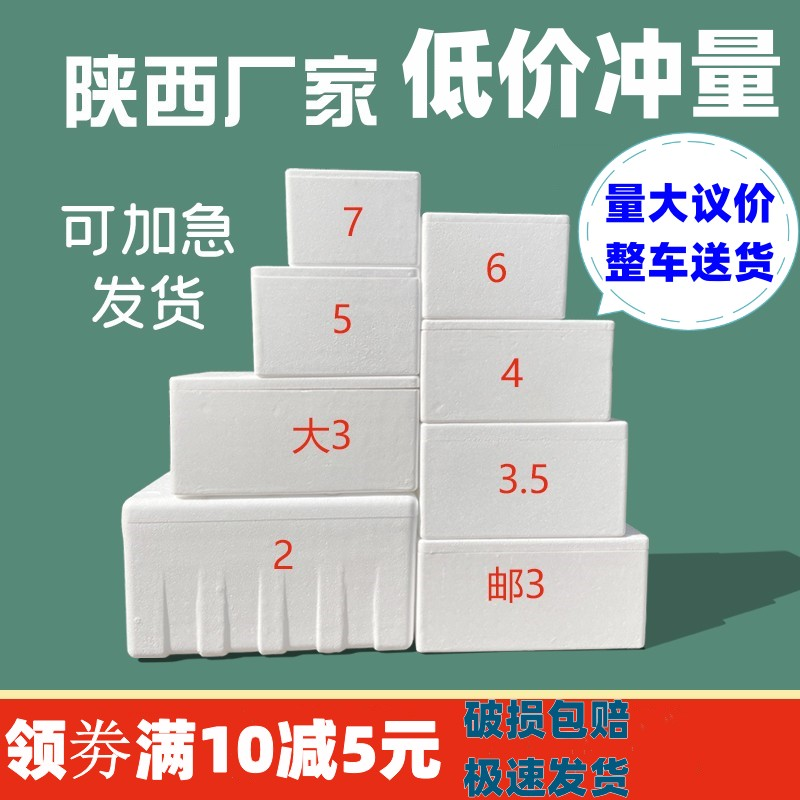泡沫箱: (123, 170, 648, 658)
